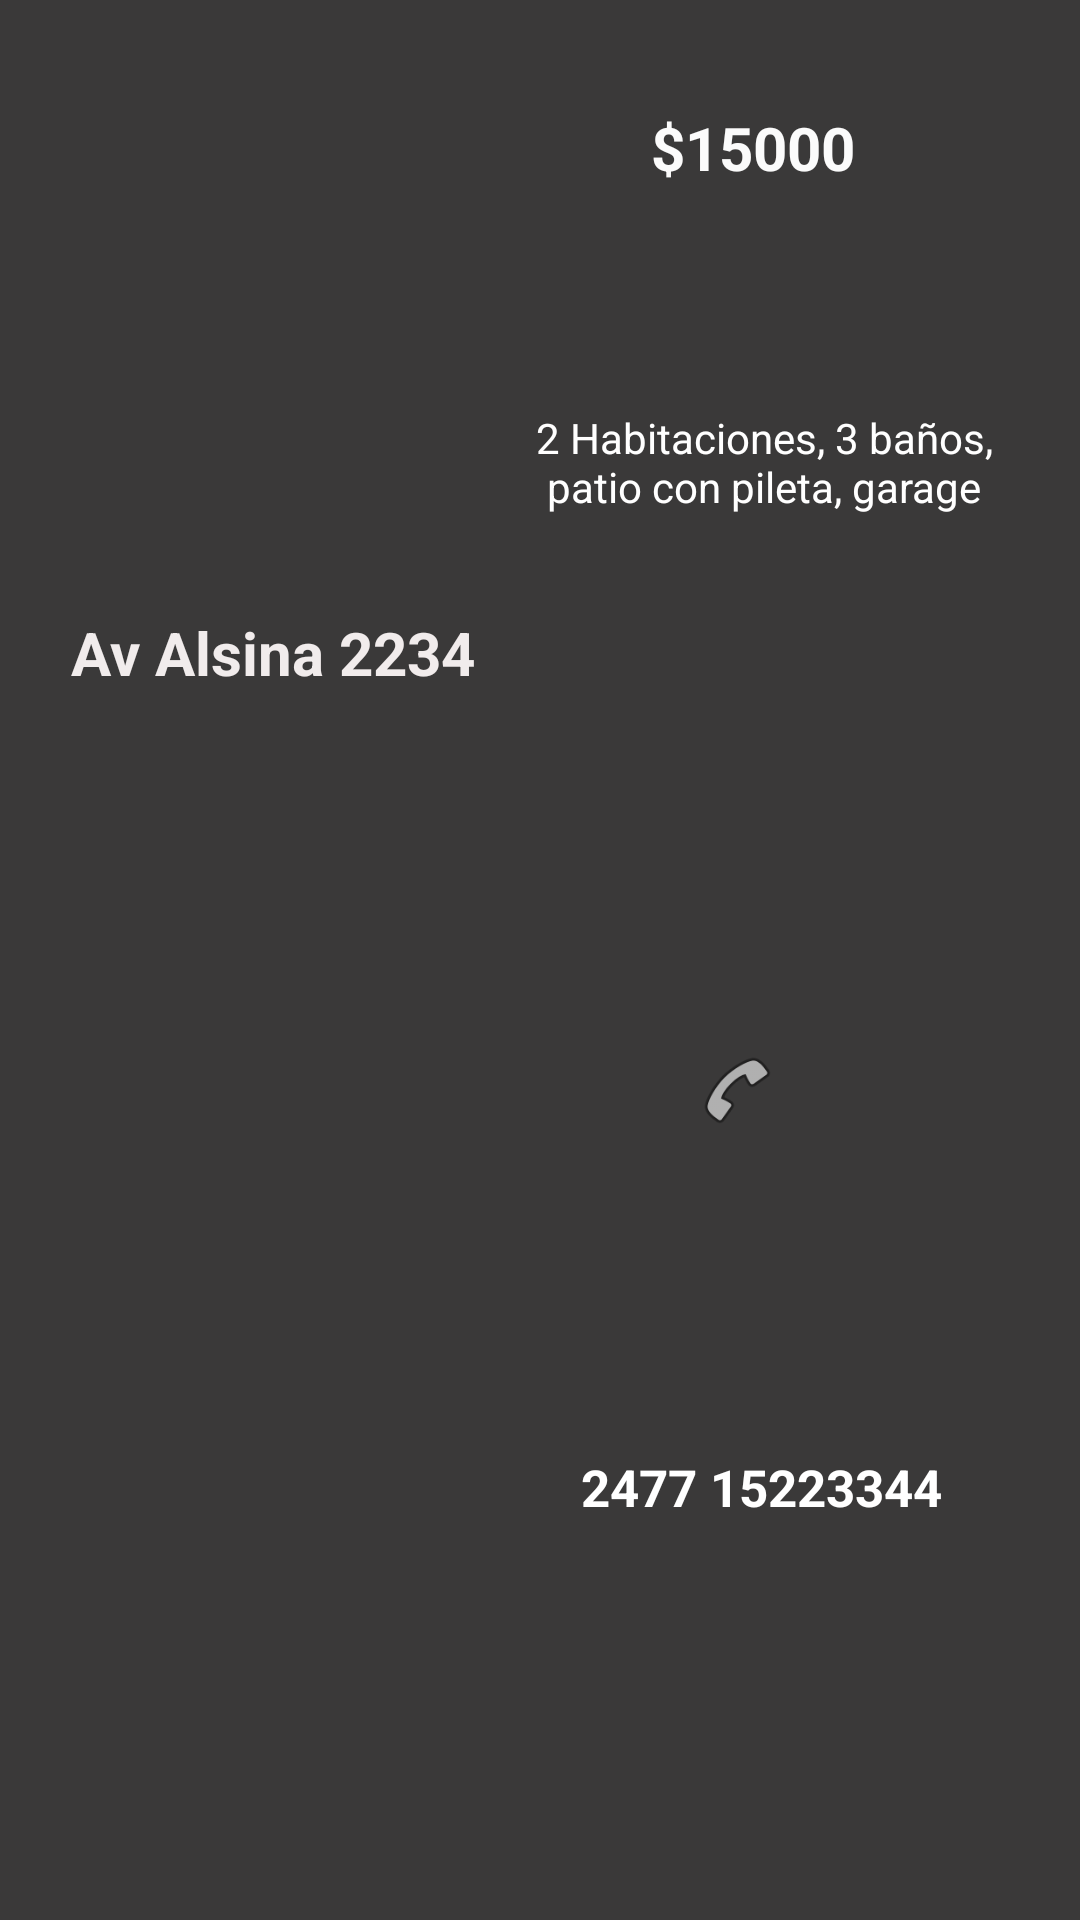

Icon click points for this 1080*1920 phone screenshot, format point (x, y):
call: point (737, 1090)
